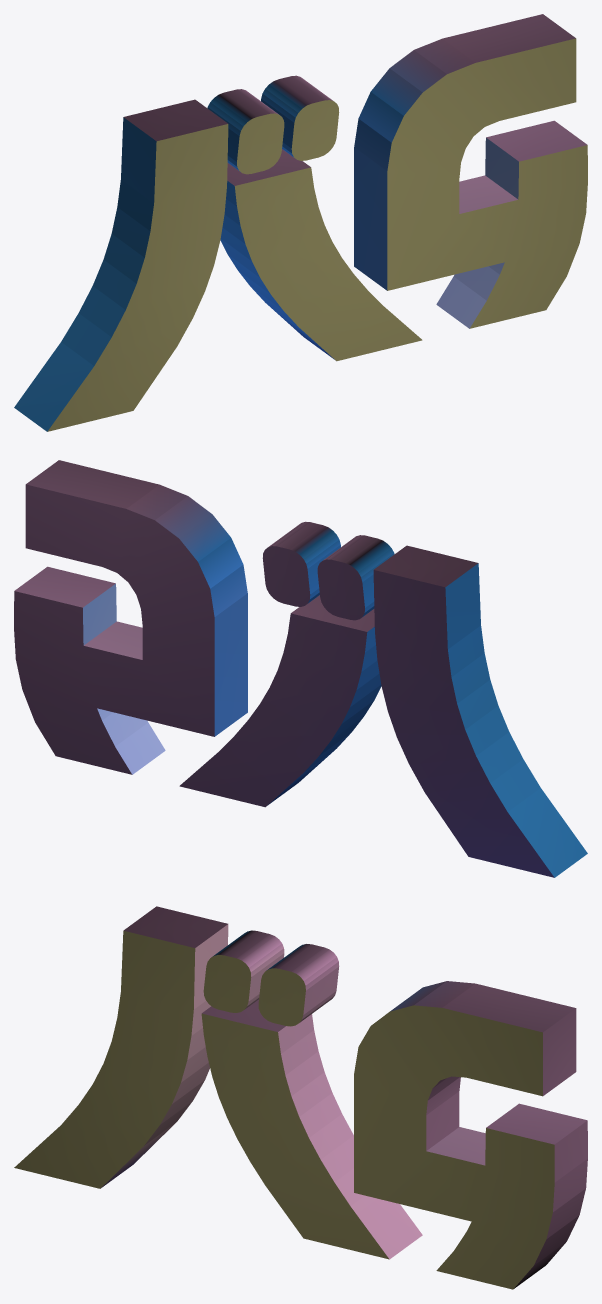
The model's file is ag_systems.glb.
3 renders of one model, top to bottom at view 1: azimuth 30°, elevation 25°; view 2: azimuth 150°, elevation 25°; view 3: azimuth 330°, elevation 25°, orthographic.
Parts seen in each view (by area): view 1: Mesh_0; view 2: Mesh_0; view 3: Mesh_0.
Boxes of the visible parts, <box> form: Mesh_0: <box>14,14,587,431</box>; Mesh_0: <box>14,460,587,877</box>; Mesh_0: <box>14,906,587,1289</box>.
Size of the model in its own units: 88.19 by 41.22 by 9.39.
